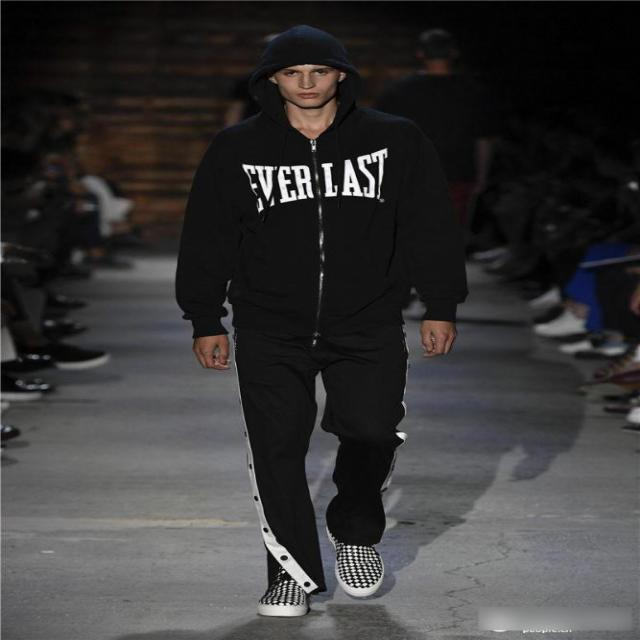Manusia: (153, 20, 470, 627)
